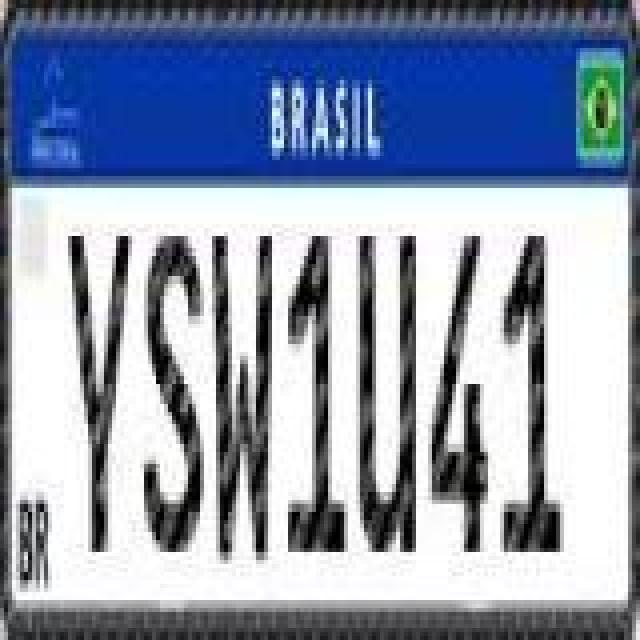1: (282, 230, 350, 554), (494, 230, 562, 554)
4: (424, 230, 488, 554)
S: (142, 224, 210, 560)
U: (358, 230, 418, 554)
W: (208, 232, 272, 568)
Y: (66, 230, 134, 554)
